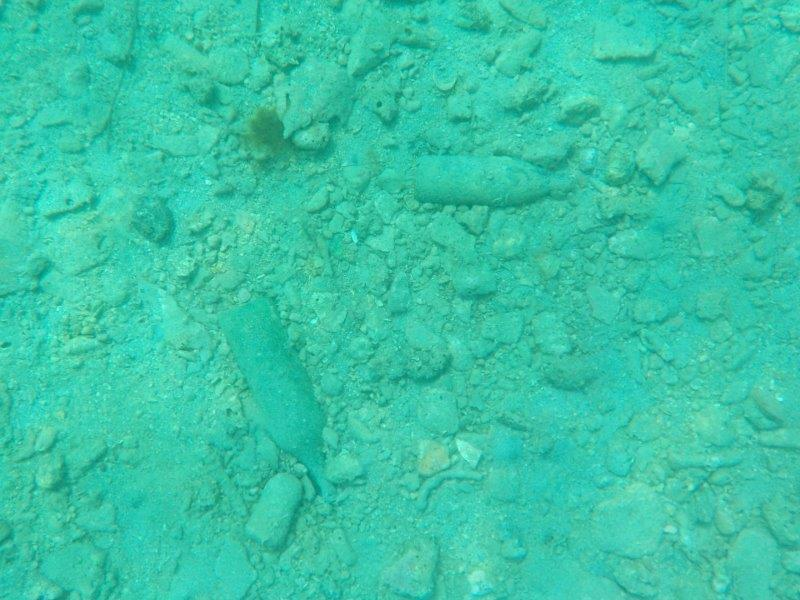bottle: (220, 289, 342, 503), (408, 151, 591, 210)
